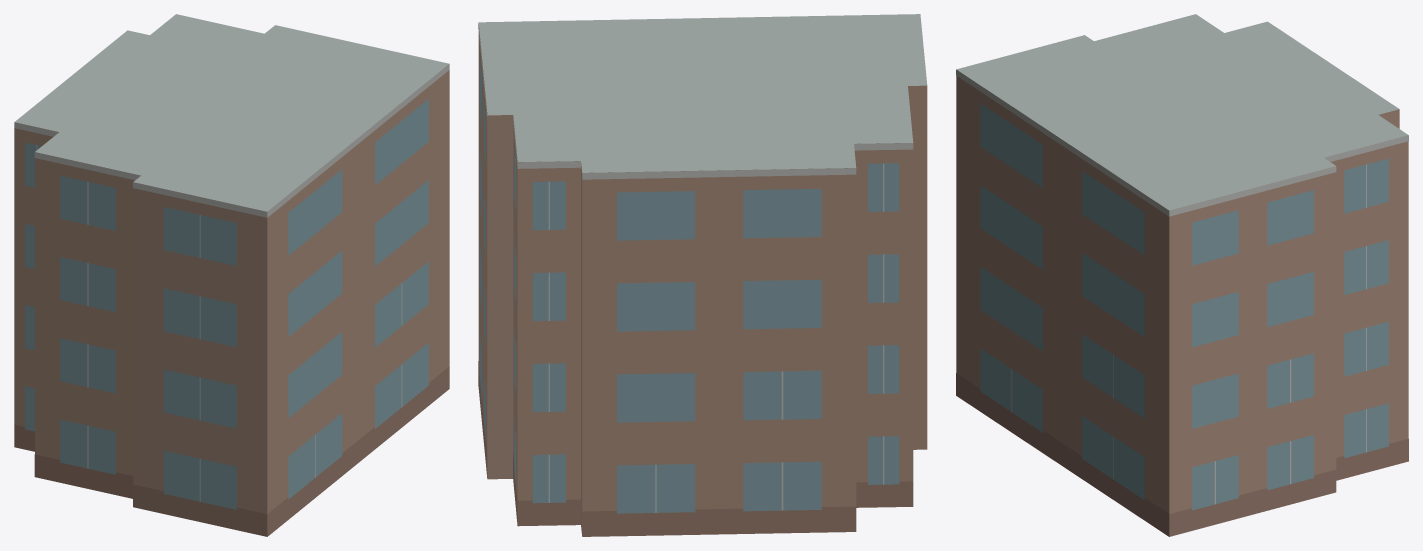
The model's file is survey-upis-32768127.glb.
3 views of the same model, side by side, from view 1: azimuth 30°, elevation 25°; view 2: azimuth 150°, elevation 25°; view 3: azimuth 270°, elevation 25° (orthographic). The views are drawn at different scales.
Visible parts, largest first — view 1: survey-upis-32768127.tmp; view 2: survey-upis-32768127.tmp; view 3: survey-upis-32768127.tmp.
Boxes of the visible parts, x1=… form: survey-upis-32768127.tmp: x1=14, y1=14, x2=449, y2=536; survey-upis-32768127.tmp: x1=478, y1=14, x2=927, y2=536; survey-upis-32768127.tmp: x1=956, y1=14, x2=1408, y2=536.
Size of the model in its own units: 17.07 by 13.2 by 16.61.
